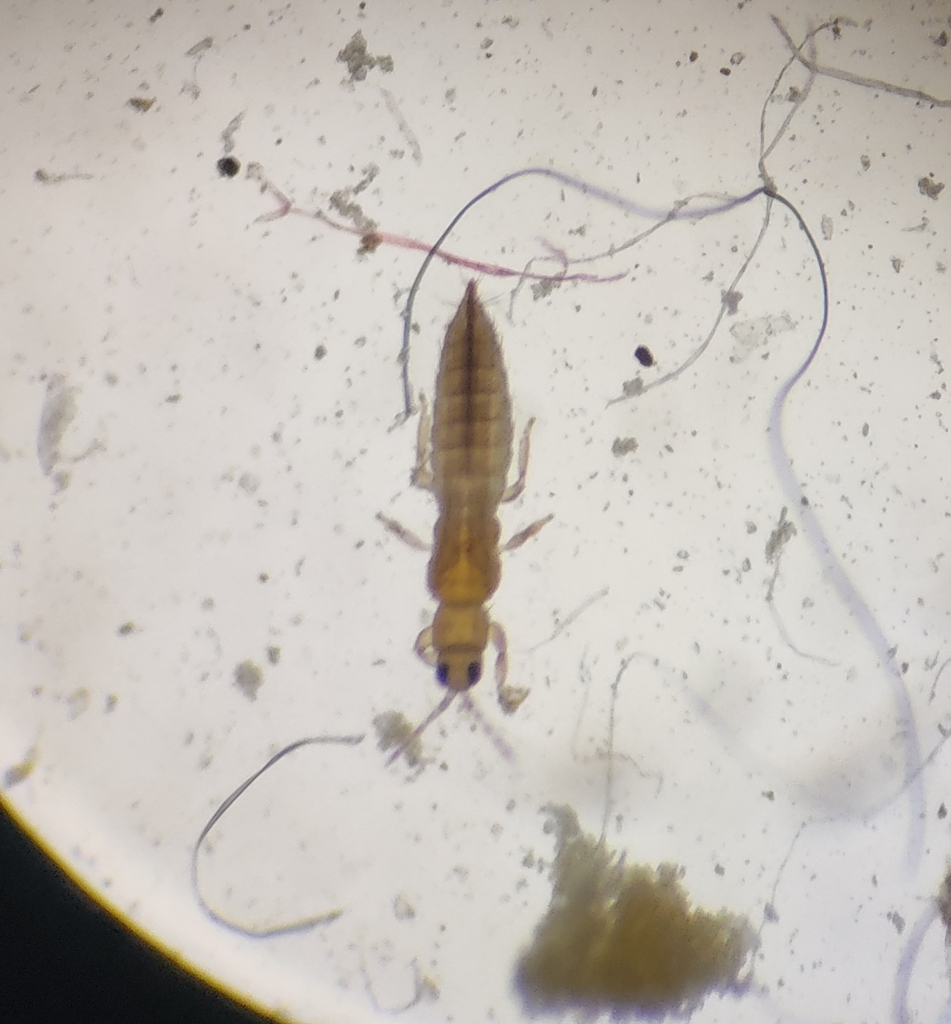tiny_pests: (321, 176, 628, 790)
